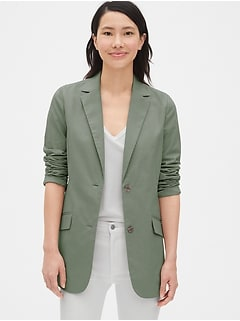F_W_suit jacket: (31, 76, 191, 296)
